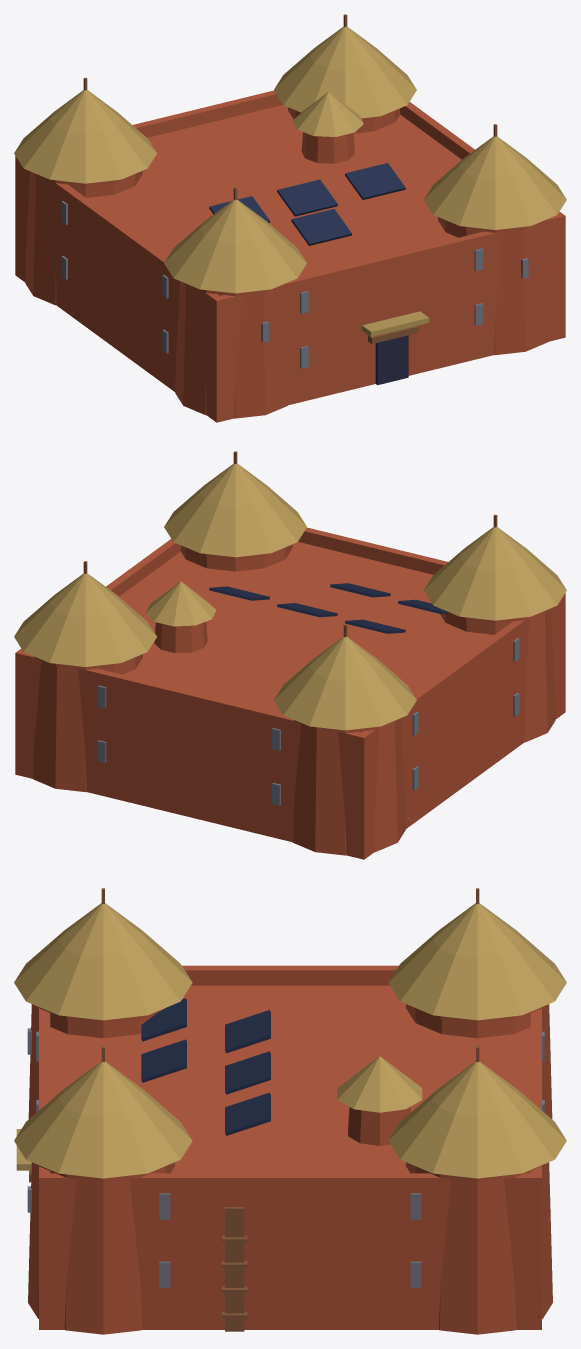
Rendered from house-2x2-2f-tata-a-solar.glb.
3 views of the same model, one above another, from view 1: azimuth 30°, elevation 25°; view 2: azimuth 150°, elevation 25°; view 3: azimuth 270°, elevation 25° (orthographic). The views are drawn at different scales.
Visible parts, largest first — view 1: house-2x2-2f-tata-a-solar; view 2: house-2x2-2f-tata-a-solar; view 3: house-2x2-2f-tata-a-solar.
Part boxes in pixels (x1,y1,x2,y2): house-2x2-2f-tata-a-solar: (14,14,566,422); house-2x2-2f-tata-a-solar: (14,451,566,859); house-2x2-2f-tata-a-solar: (14,888,566,1334).
Size of the model in its own units: 1.98 by 1.01 by 1.98.
Materials: 1 (1 with a texture image).
